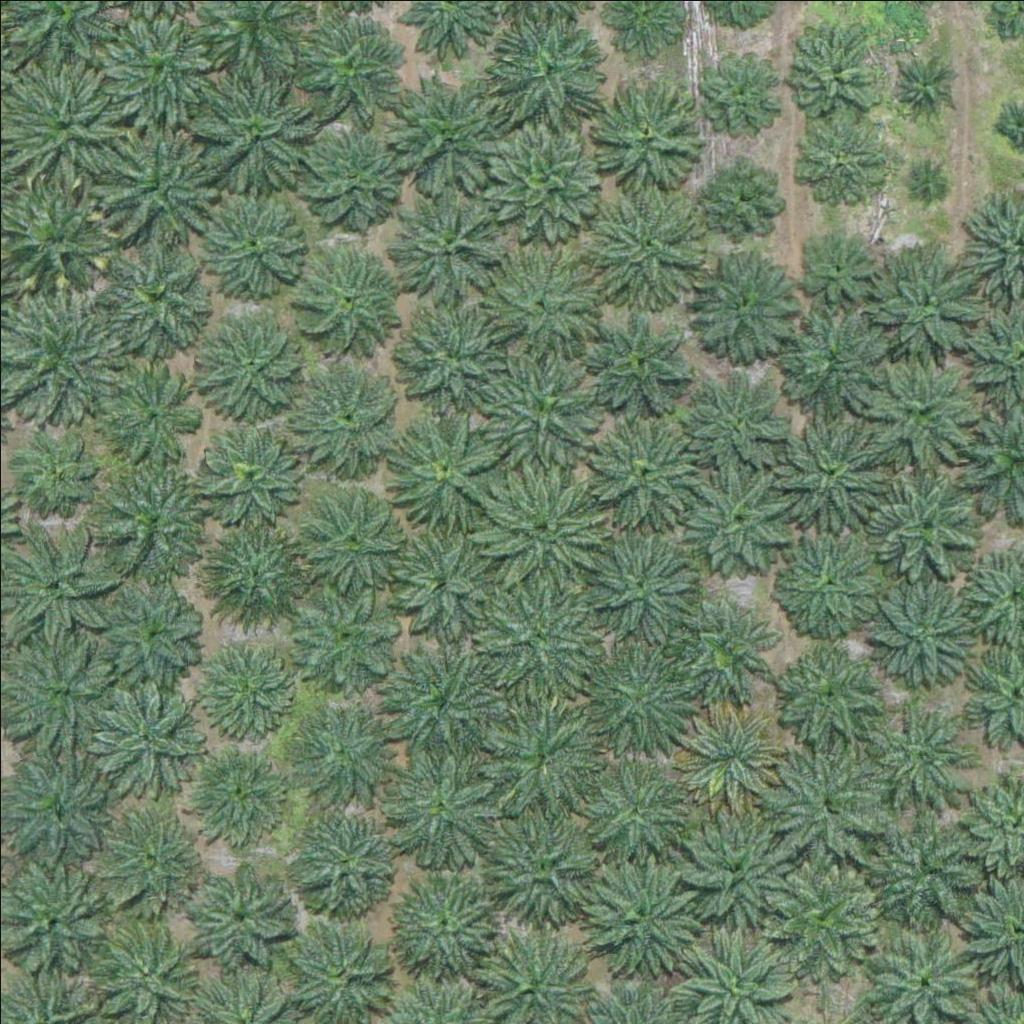Kelapa_Sawit: (93, 222, 218, 348), (2, 625, 127, 751), (480, 690, 605, 816), (474, 571, 599, 697), (480, 469, 605, 594), (381, 865, 494, 979), (389, 750, 502, 864), (192, 83, 305, 196), (293, 362, 406, 475), (294, 17, 407, 130), (384, 412, 497, 525), (394, 307, 507, 420), (397, 189, 510, 302), (594, 83, 707, 196), (691, 243, 804, 356), (773, 415, 886, 528), (787, 314, 900, 427), (1, 757, 114, 870), (92, 681, 205, 794), (298, 485, 411, 598), (384, 526, 497, 639), (382, 645, 495, 758), (489, 807, 602, 920), (588, 862, 701, 975), (871, 814, 984, 927), (767, 861, 880, 974), (673, 696, 786, 809), (676, 463, 789, 576), (771, 743, 884, 856), (775, 638, 888, 751), (874, 253, 986, 367), (104, 470, 216, 584), (199, 519, 311, 633), (293, 583, 405, 697), (99, 130, 211, 243), (100, 15, 212, 128), (192, 199, 304, 312), (196, 312, 308, 425), (389, 85, 501, 198), (486, 358, 598, 471), (488, 249, 600, 362), (490, 130, 602, 243), (494, 15, 606, 128), (592, 193, 704, 306), (863, 356, 975, 469), (577, 752, 689, 865), (587, 643, 699, 756), (587, 532, 699, 645), (588, 420, 700, 533), (681, 812, 793, 925), (864, 698, 976, 811), (868, 466, 980, 579), (293, 255, 393, 356), (302, 131, 402, 232), (590, 308, 690, 409), (100, 807, 200, 908), (192, 867, 292, 968), (778, 530, 878, 631), (871, 585, 971, 686), (102, 367, 202, 467), (199, 426, 299, 526), (297, 814, 397, 914), (97, 586, 197, 686), (192, 742, 292, 842), (196, 635, 296, 735), (291, 703, 391, 803), (798, 118, 886, 206), (790, 24, 878, 112), (681, 605, 768, 694), (694, 374, 781, 462), (703, 160, 778, 236), (20, 441, 95, 517), (701, 45, 776, 121), (805, 227, 880, 303), (899, 63, 949, 113), (903, 164, 941, 202)
